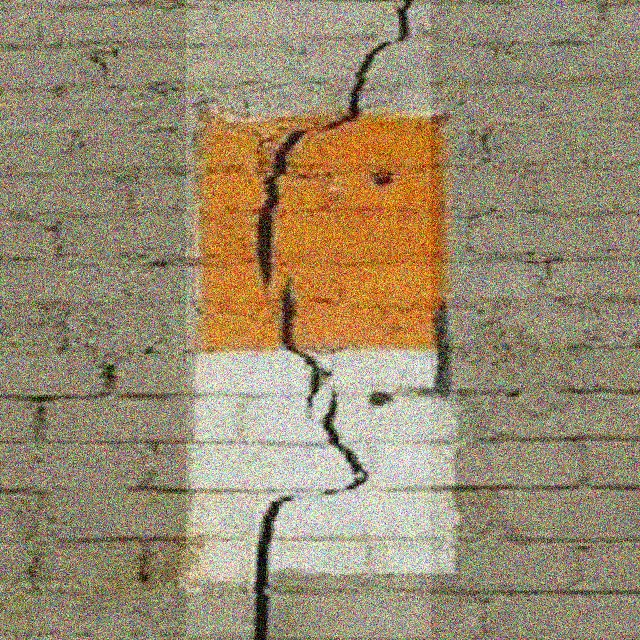SurfaceCrack: (178, 8, 434, 640)
